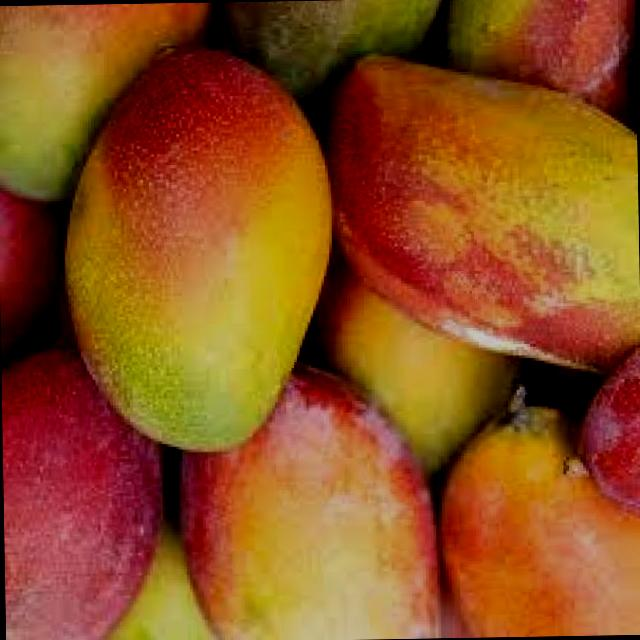Mango: (62, 58, 338, 456), (332, 49, 640, 379), (173, 359, 436, 640), (302, 252, 529, 499), (0, 344, 166, 640), (438, 398, 640, 637), (0, 1, 221, 209), (224, 0, 440, 127), (436, 0, 636, 135), (0, 192, 71, 374), (570, 349, 640, 525)
